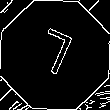L_SW: (31, 26, 79, 84)
